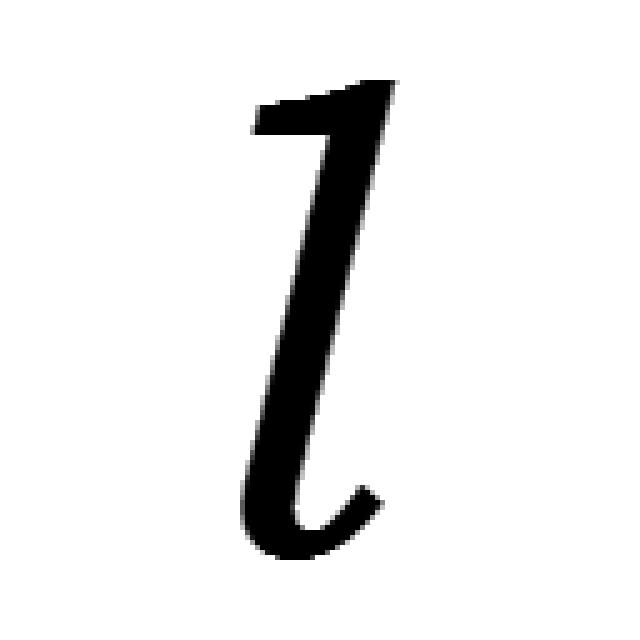L: (248, 68, 419, 566)
